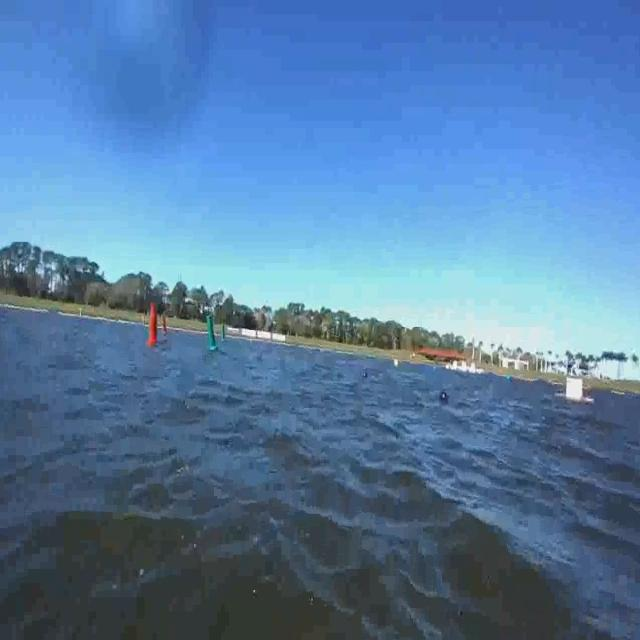black-buoy: (441, 387, 452, 404), (363, 371, 370, 378)
green-column-buoy: (206, 316, 220, 353)
red-column-buoy: (147, 302, 159, 344), (163, 315, 170, 334)
yellow-buoy: (392, 358, 400, 369)
